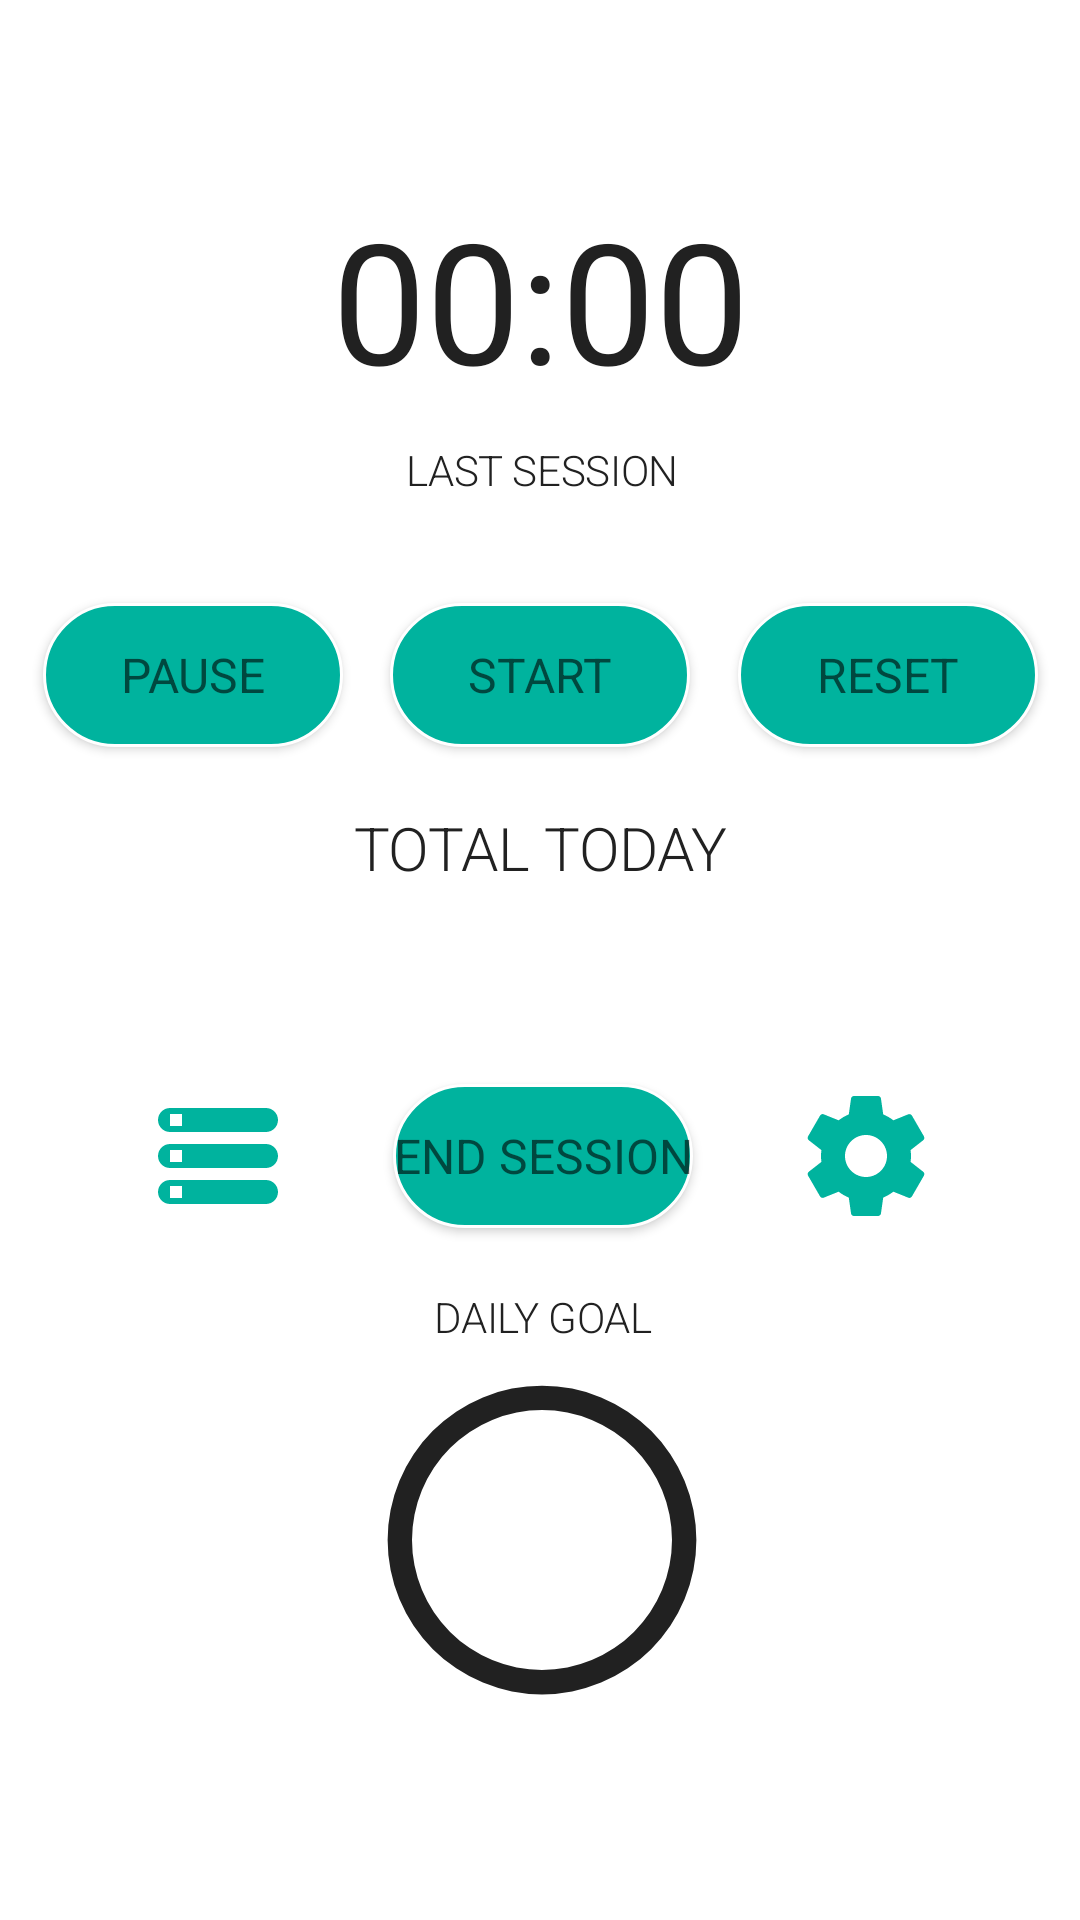

Where icons sit on this 1080×1920 app screen, as (x1, y1, x2, y2):
Open Log: (158, 1108, 278, 1204)
Settings: (807, 1096, 925, 1216)
